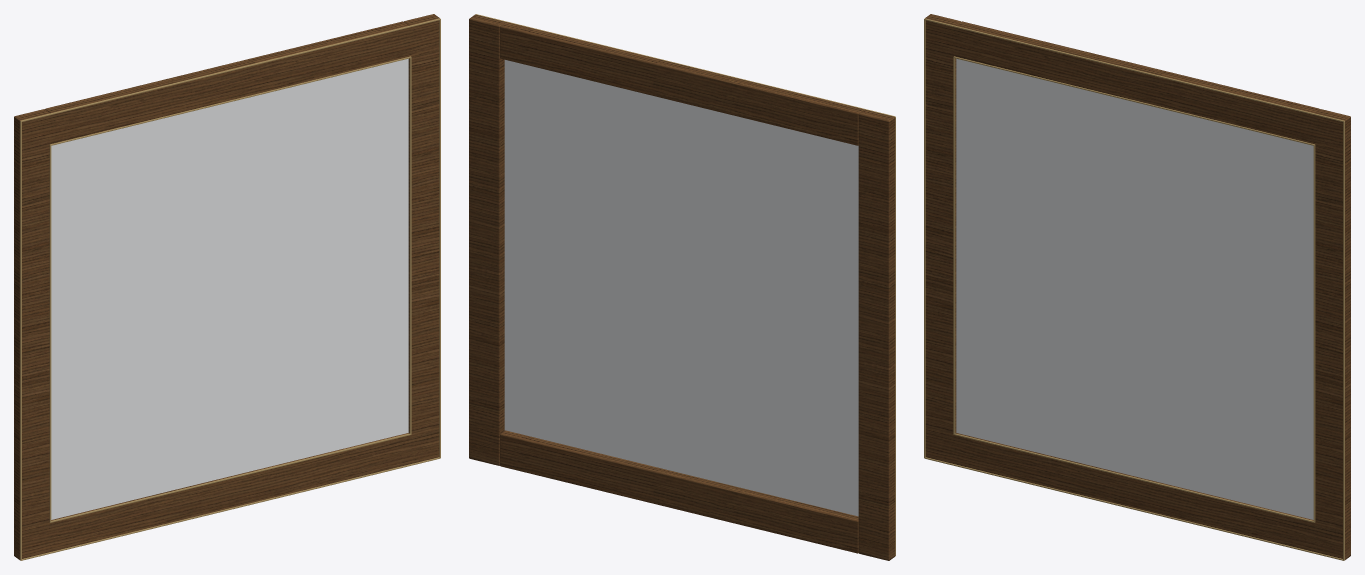
The picture shows the model from 3 angles, left to right: view 1: azimuth 30°, elevation 25°; view 2: azimuth 150°, elevation 25°; view 3: azimuth 330°, elevation 25°; orthographic projection.
Parts seen in each view (by area): view 1: SIENNA LV463-B71 | LV463-B71-01 optimized; view 2: SIENNA LV463-B71 | LV463-B71-01 optimized; view 3: SIENNA LV463-B71 | LV463-B71-01 optimized.
Part boxes in pixels (bbox=[...]): SIENNA LV463-B71 | LV463-B71-01 optimized: bbox=[14, 14, 440, 560]; SIENNA LV463-B71 | LV463-B71-01 optimized: bbox=[469, 14, 895, 560]; SIENNA LV463-B71 | LV463-B71-01 optimized: bbox=[924, 14, 1350, 560].
Size of the model in its own units: 1 by 1 by 0.0285.
3 materials, 1 textured.
